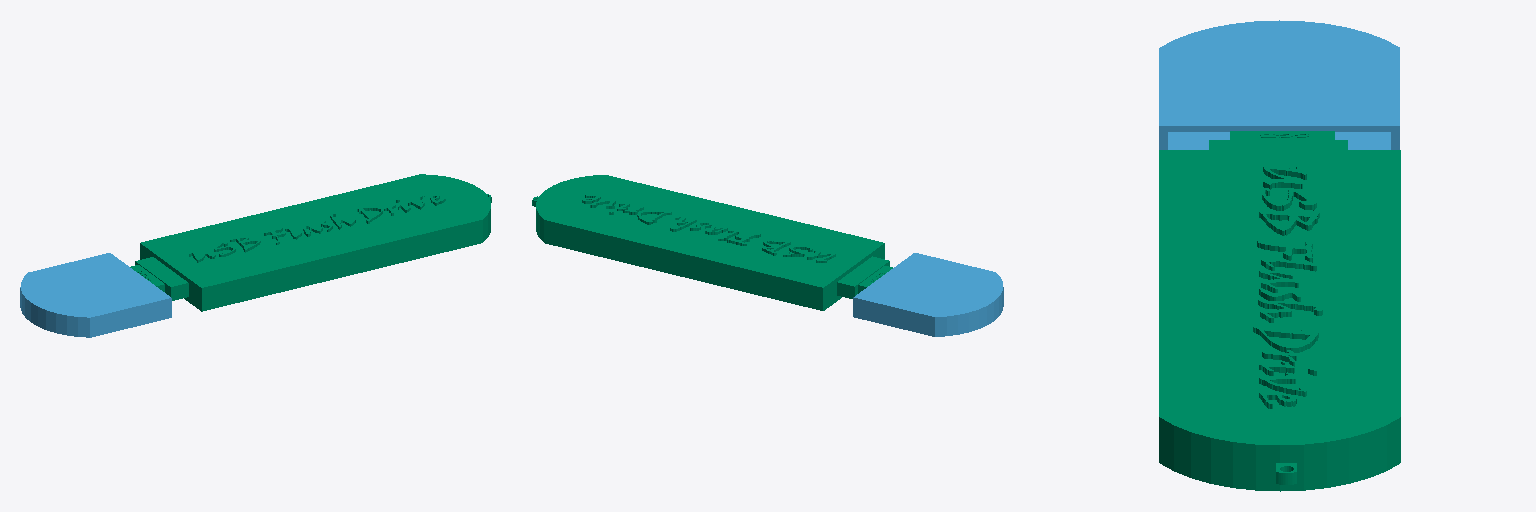
The robot description file, URDF, robot "partnet_441590e73bc1c5e82927226d23ff1d8":
<?xml version="1.0" ?>
<robot name="partnet_441590e73bc1c5e82927226d23ff1d8">
	<link name="base"/>
	<link name="link_0">
		<visual name="cap-1">
			<origin xyz="0 0 0"/>
			<geometry>
				<mesh filename="textured_objs/original-20.obj"/>
			</geometry>
		</visual>
		<collision>
			<origin xyz="0 0 0"/>
			<geometry>
				<mesh filename="textured_objs/original-20.obj"/>
			</geometry>
		</collision>
	</link>
	<joint name="joint_0" type="prismatic">
		<origin xyz="0 0 0"/>
		<axis xyz="0 0 1"/>
		<child link="link_0"/>
		<parent link="link_1"/>
		<limit lower="-0.30400000000000005" upper="-0.06400000000000006"/>
	</joint>
	<link name="link_1">
		<visual name="base_body-2">
			<origin xyz="0 0 0"/>
			<geometry>
				<mesh filename="textured_objs/original-21.obj"/>
			</geometry>
		</visual>
		<visual name="base_body-2">
			<origin xyz="0 0 0"/>
			<geometry>
				<mesh filename="textured_objs/original-22.obj"/>
			</geometry>
		</visual>
		<visual name="base_body-2">
			<origin xyz="0 0 0"/>
			<geometry>
				<mesh filename="textured_objs/original-4.obj"/>
			</geometry>
		</visual>
		<visual name="base_body-2">
			<origin xyz="0 0 0"/>
			<geometry>
				<mesh filename="textured_objs/original-3.obj"/>
			</geometry>
		</visual>
		<visual name="base_body-2">
			<origin xyz="0 0 0"/>
			<geometry>
				<mesh filename="textured_objs/original-2.obj"/>
			</geometry>
		</visual>
		<visual name="base_body-2">
			<origin xyz="0 0 0"/>
			<geometry>
				<mesh filename="textured_objs/original-8.obj"/>
			</geometry>
		</visual>
		<visual name="base_body-2">
			<origin xyz="0 0 0"/>
			<geometry>
				<mesh filename="textured_objs/original-13.obj"/>
			</geometry>
		</visual>
		<visual name="base_body-2">
			<origin xyz="0 0 0"/>
			<geometry>
				<mesh filename="textured_objs/original-9.obj"/>
			</geometry>
		</visual>
		<visual name="base_body-2">
			<origin xyz="0 0 0"/>
			<geometry>
				<mesh filename="textured_objs/original-5.obj"/>
			</geometry>
		</visual>
		<visual name="base_body-2">
			<origin xyz="0 0 0"/>
			<geometry>
				<mesh filename="textured_objs/original-6.obj"/>
			</geometry>
		</visual>
		<visual name="base_body-2">
			<origin xyz="0 0 0"/>
			<geometry>
				<mesh filename="textured_objs/original-15.obj"/>
			</geometry>
		</visual>
		<visual name="base_body-2">
			<origin xyz="0 0 0"/>
			<geometry>
				<mesh filename="textured_objs/original-11.obj"/>
			</geometry>
		</visual>
		<visual name="base_body-2">
			<origin xyz="0 0 0"/>
			<geometry>
				<mesh filename="textured_objs/original-18.obj"/>
			</geometry>
		</visual>
		<visual name="base_body-2">
			<origin xyz="0 0 0"/>
			<geometry>
				<mesh filename="textured_objs/original-17.obj"/>
			</geometry>
		</visual>
		<visual name="base_body-2">
			<origin xyz="0 0 0"/>
			<geometry>
				<mesh filename="textured_objs/original-12.obj"/>
			</geometry>
		</visual>
		<visual name="base_body-2">
			<origin xyz="0 0 0"/>
			<geometry>
				<mesh filename="textured_objs/original-7.obj"/>
			</geometry>
		</visual>
		<visual name="base_body-2">
			<origin xyz="0 0 0"/>
			<geometry>
				<mesh filename="textured_objs/original-10.obj"/>
			</geometry>
		</visual>
		<visual name="base_body-2">
			<origin xyz="0 0 0"/>
			<geometry>
				<mesh filename="textured_objs/original-14.obj"/>
			</geometry>
		</visual>
		<visual name="base_body-2">
			<origin xyz="0 0 0"/>
			<geometry>
				<mesh filename="textured_objs/original-19.obj"/>
			</geometry>
		</visual>
		<collision>
			<origin xyz="0 0 0"/>
			<geometry>
				<mesh filename="textured_objs/original-21.obj"/>
			</geometry>
		</collision>
		<collision>
			<origin xyz="0 0 0"/>
			<geometry>
				<mesh filename="textured_objs/original-22.obj"/>
			</geometry>
		</collision>
		<collision>
			<origin xyz="0 0 0"/>
			<geometry>
				<mesh filename="textured_objs/original-4.obj"/>
			</geometry>
		</collision>
		<collision>
			<origin xyz="0 0 0"/>
			<geometry>
				<mesh filename="textured_objs/original-3.obj"/>
			</geometry>
		</collision>
		<collision>
			<origin xyz="0 0 0"/>
			<geometry>
				<mesh filename="textured_objs/original-2.obj"/>
			</geometry>
		</collision>
		<collision>
			<origin xyz="0 0 0"/>
			<geometry>
				<mesh filename="textured_objs/original-8.obj"/>
			</geometry>
		</collision>
		<collision>
			<origin xyz="0 0 0"/>
			<geometry>
				<mesh filename="textured_objs/original-13.obj"/>
			</geometry>
		</collision>
		<collision>
			<origin xyz="0 0 0"/>
			<geometry>
				<mesh filename="textured_objs/original-9.obj"/>
			</geometry>
		</collision>
		<collision>
			<origin xyz="0 0 0"/>
			<geometry>
				<mesh filename="textured_objs/original-5.obj"/>
			</geometry>
		</collision>
		<collision>
			<origin xyz="0 0 0"/>
			<geometry>
				<mesh filename="textured_objs/original-6.obj"/>
			</geometry>
		</collision>
		<collision>
			<origin xyz="0 0 0"/>
			<geometry>
				<mesh filename="textured_objs/original-15.obj"/>
			</geometry>
		</collision>
		<collision>
			<origin xyz="0 0 0"/>
			<geometry>
				<mesh filename="textured_objs/original-11.obj"/>
			</geometry>
		</collision>
		<collision>
			<origin xyz="0 0 0"/>
			<geometry>
				<mesh filename="textured_objs/original-18.obj"/>
			</geometry>
		</collision>
		<collision>
			<origin xyz="0 0 0"/>
			<geometry>
				<mesh filename="textured_objs/original-17.obj"/>
			</geometry>
		</collision>
		<collision>
			<origin xyz="0 0 0"/>
			<geometry>
				<mesh filename="textured_objs/original-12.obj"/>
			</geometry>
		</collision>
		<collision>
			<origin xyz="0 0 0"/>
			<geometry>
				<mesh filename="textured_objs/original-7.obj"/>
			</geometry>
		</collision>
		<collision>
			<origin xyz="0 0 0"/>
			<geometry>
				<mesh filename="textured_objs/original-10.obj"/>
			</geometry>
		</collision>
		<collision>
			<origin xyz="0 0 0"/>
			<geometry>
				<mesh filename="textured_objs/original-14.obj"/>
			</geometry>
		</collision>
		<collision>
			<origin xyz="0 0 0"/>
			<geometry>
				<mesh filename="textured_objs/original-19.obj"/>
			</geometry>
		</collision>
	</link>
	<joint name="joint_1" type="fixed">
		<origin rpy="1.570796326794897 0 -1.570796326794897" xyz="0 0 0"/>
		<child link="link_1"/>
		<parent link="base"/>
	</joint>
</robot>

--- What the picture shows (computed from the rendered views, not written in the file) ---
Views: 3 orthographic renders of the robot side by side, from view 1: azimuth 30°, elevation 25°; view 2: azimuth 150°, elevation 25°; view 3: azimuth 270°, elevation 25°.
Robot: partnet_441590e73bc1c5e82927226d23ff1d8 — 3 links, 2 joints (1 prismatic, 1 fixed); root link base; default pose: all joints at 0 but 1 set to mid-range because 0 is outside their limits (joint_0 = -0.184).
Links seen in each view (by area): view 1: link_1, link_0; view 2: link_1, link_0; view 3: link_1, link_0.
Boxes of the visible links, x1=… form: link_1: x1=130, y1=174, x2=491, y2=311; link_0: x1=20, y1=253, x2=171, y2=337; link_1: x1=532, y1=175, x2=892, y2=310; link_0: x1=853, y1=253, x2=1003, y2=336; link_1: x1=1159, y1=131, x2=1400, y2=491; link_0: x1=1159, y1=20, x2=1399, y2=149.
Size in the robot's own frame: 1.86 by 0.4332 by 0.101 metres.
Meshes: 20 distinct files referenced, 20 mesh visuals loaded (20 OBJ).